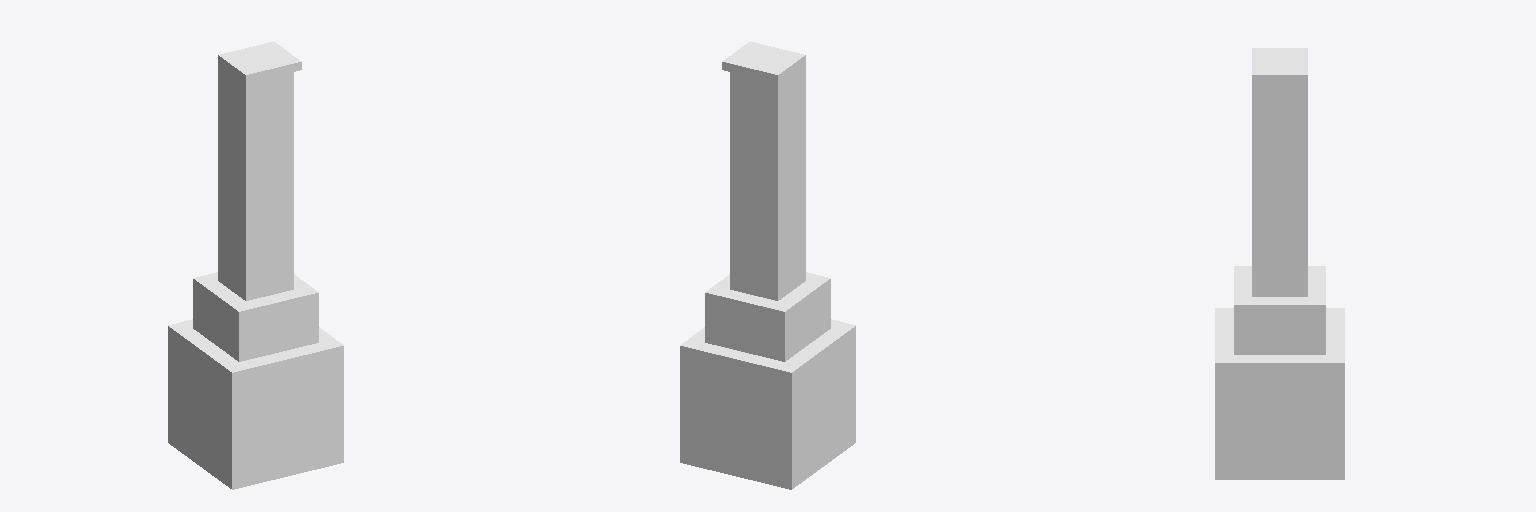
File: scourge_brazo.obj
The picture shows the model from 3 angles: view 1: azimuth 30°, elevation 25°; view 2: azimuth 150°, elevation 25°; view 3: azimuth 270°, elevation 25°; orthographic projection.
Parts seen in each view (by area): view 1: object 1; view 2: object 1; view 3: object 1.
Boxes of the visible parts, box(x1,y1,x2,y2) form: object 1: box(168, 41, 343, 489); object 1: box(680, 41, 855, 489); object 1: box(1215, 48, 1344, 479).
Bounding box in the file's own units: 1.4 × 4.7 × 1.4.